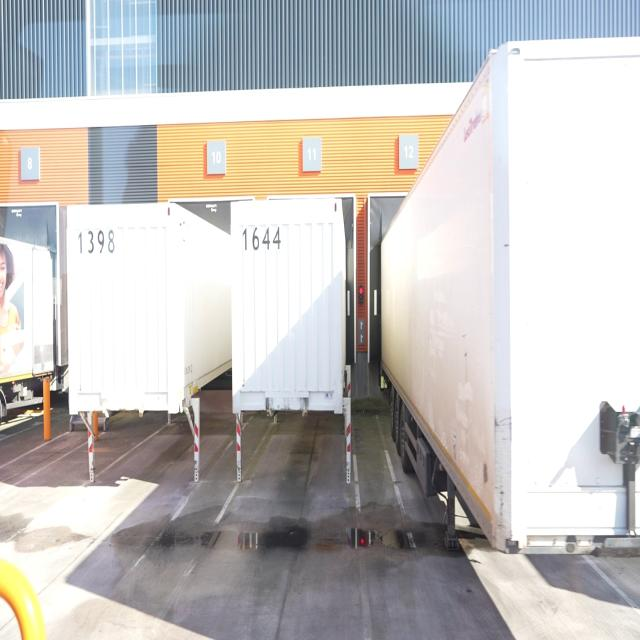Code: (74, 225, 118, 259), (240, 222, 284, 254)
